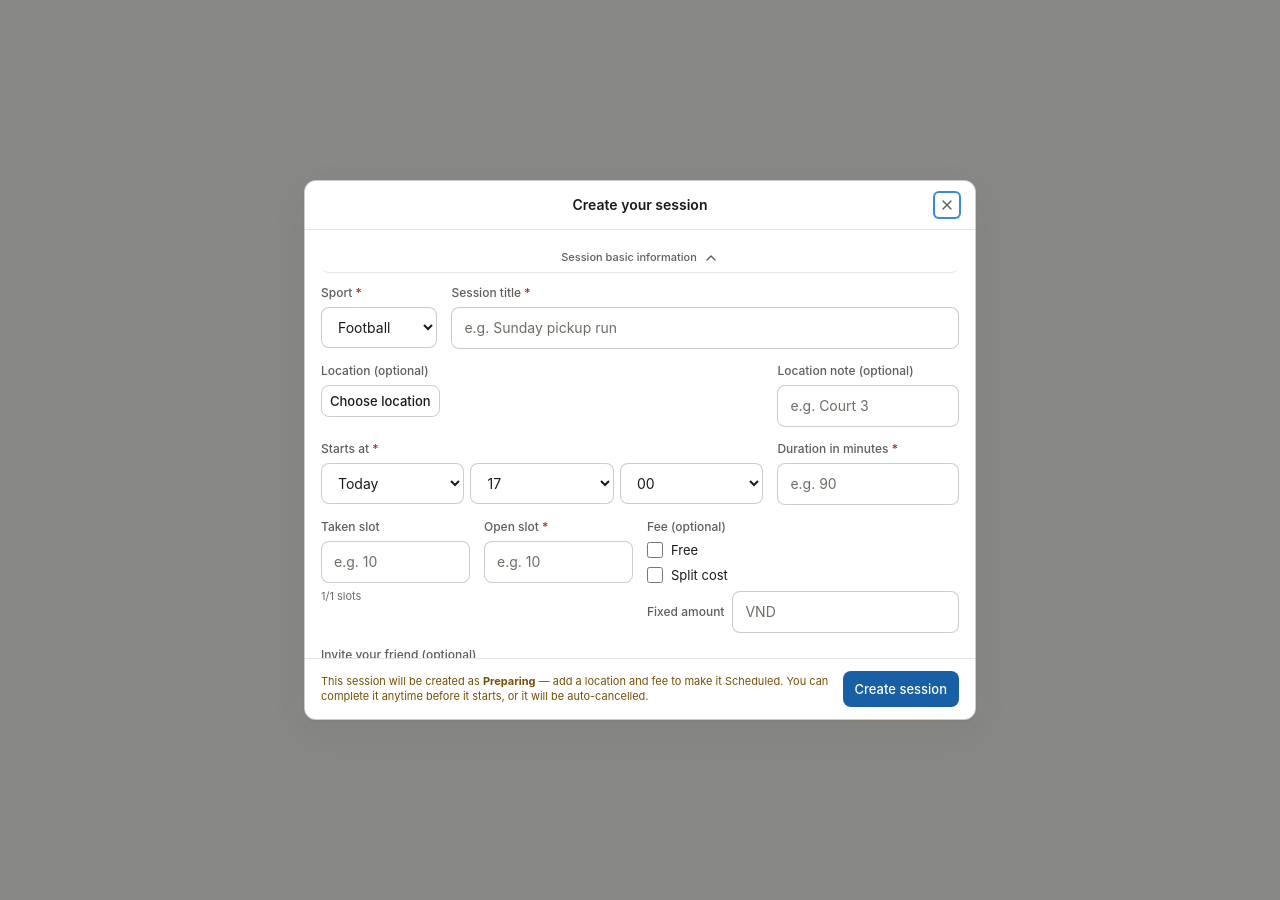
Test: CreateSessionModal › checking "Free" or "Split cost" clears a previously-typed amount
Type "50000" into the field labelled "Fixed amount" at (846, 612), box [732, 591, 959, 633]
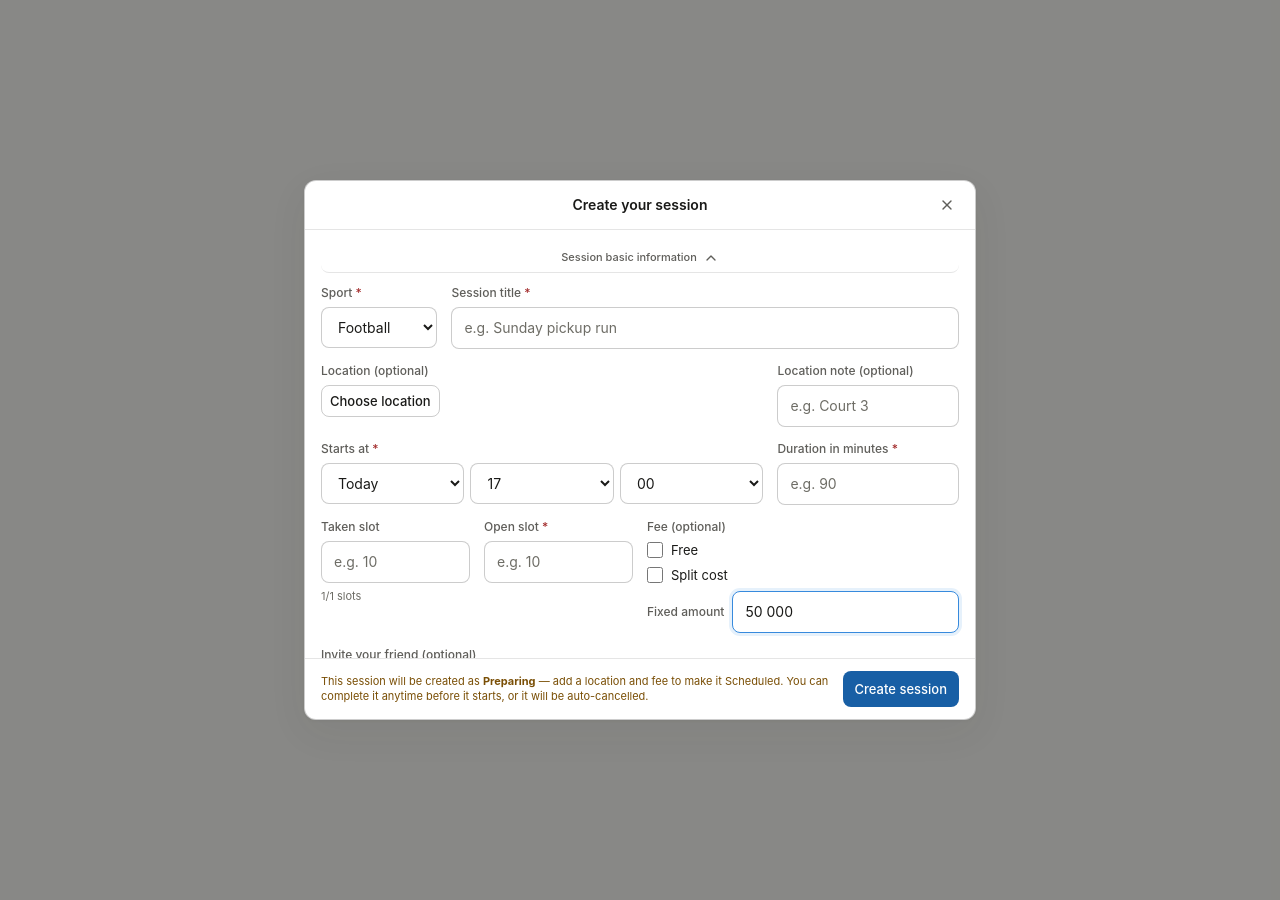
Click the checkbox labelled "Split cost" at (655, 575), box [647, 567, 663, 583]
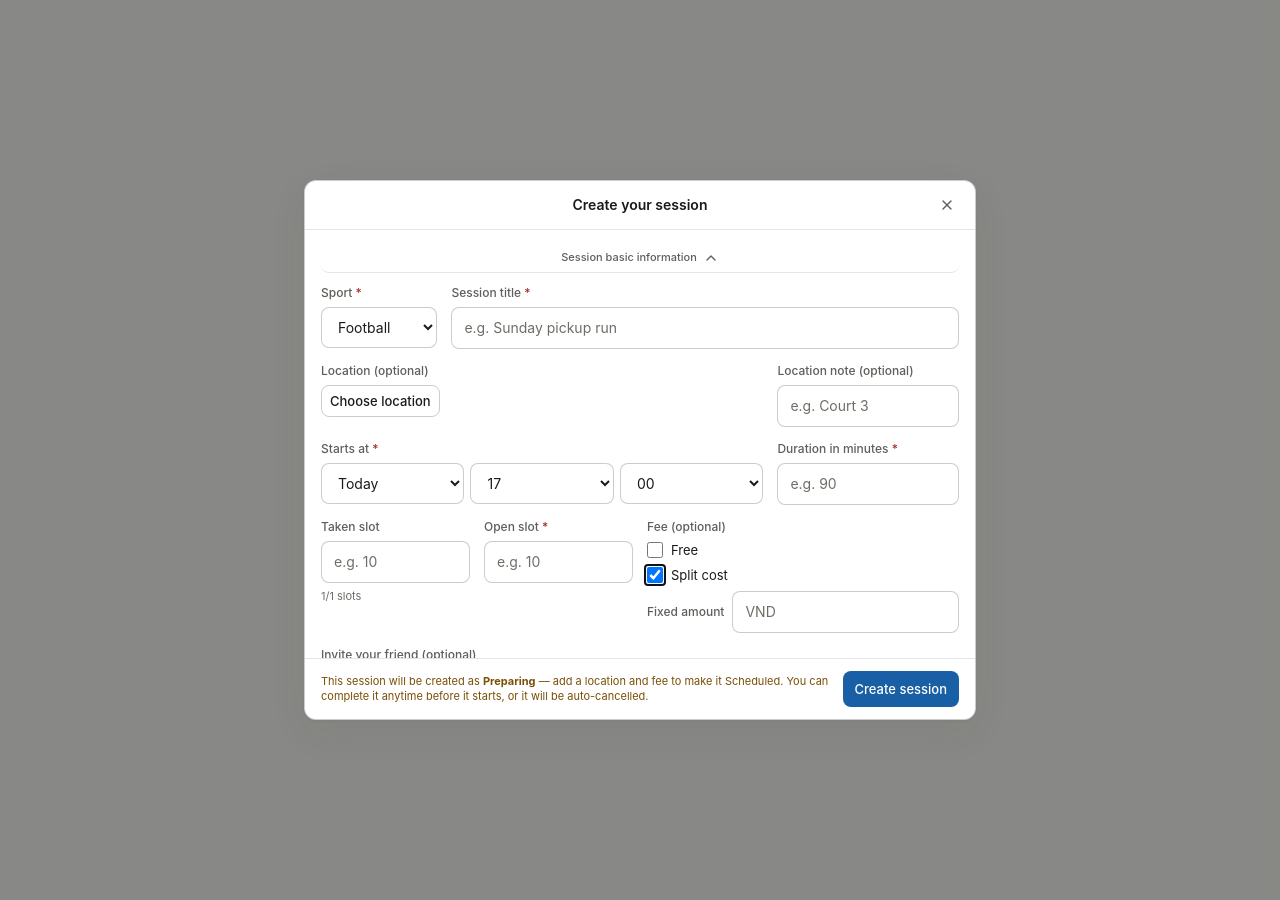
Expected: the checkbox labelled "Free" is not checked, [647, 542, 663, 558]
Result: the checkbox labelled "Split cost" is checked at [647, 567, 663, 583]
Result: the field labelled "Fixed amount" is empty at [732, 591, 959, 633]
